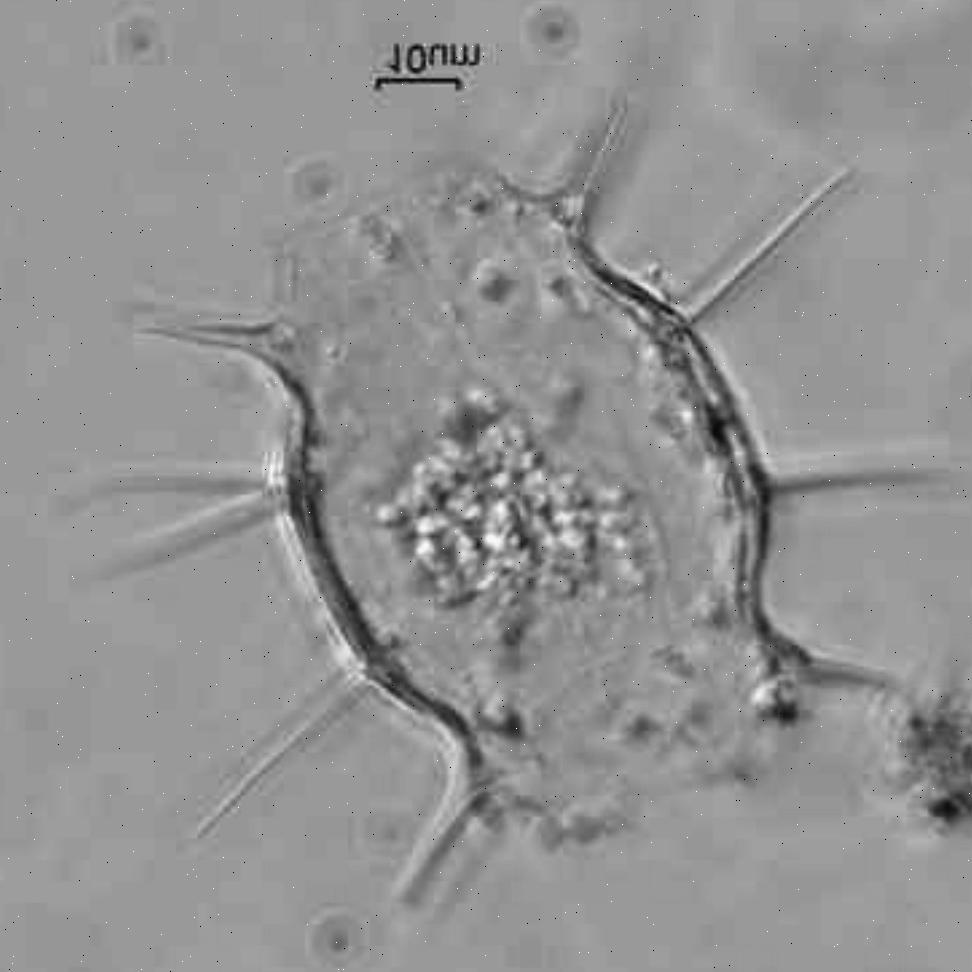odontella_mobiliensis: (66, 98, 969, 901)
